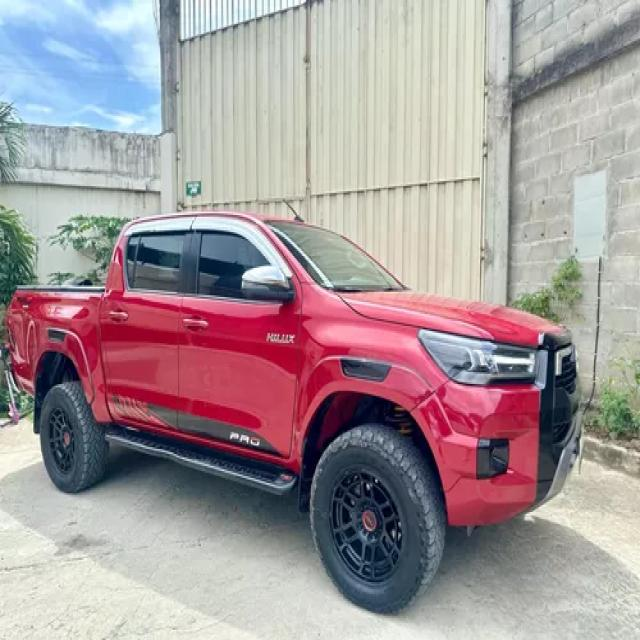CMT: (6, 210, 584, 610)
